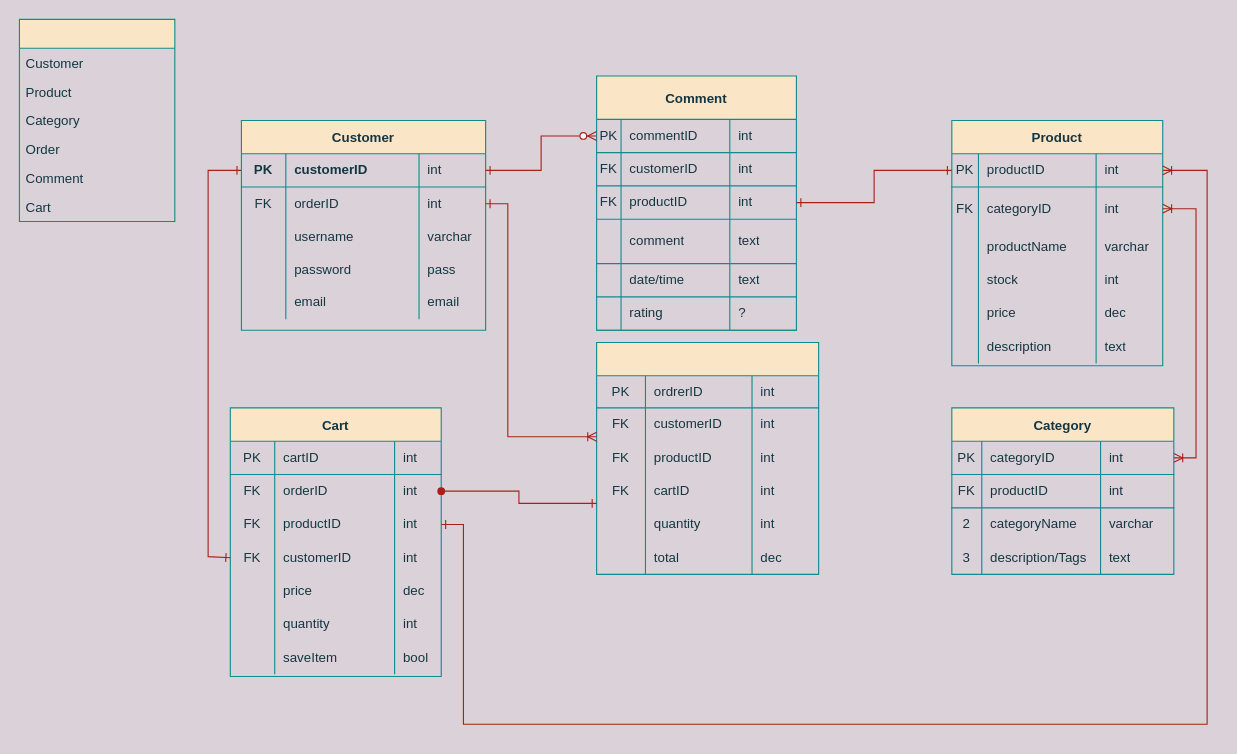
Image size: 1237x754. Some labels were removed from this diagram. Each missing label, with the box of its shape:
Database Objects: (18, 18, 175, 221)
Orders: (596, 341, 819, 574)
